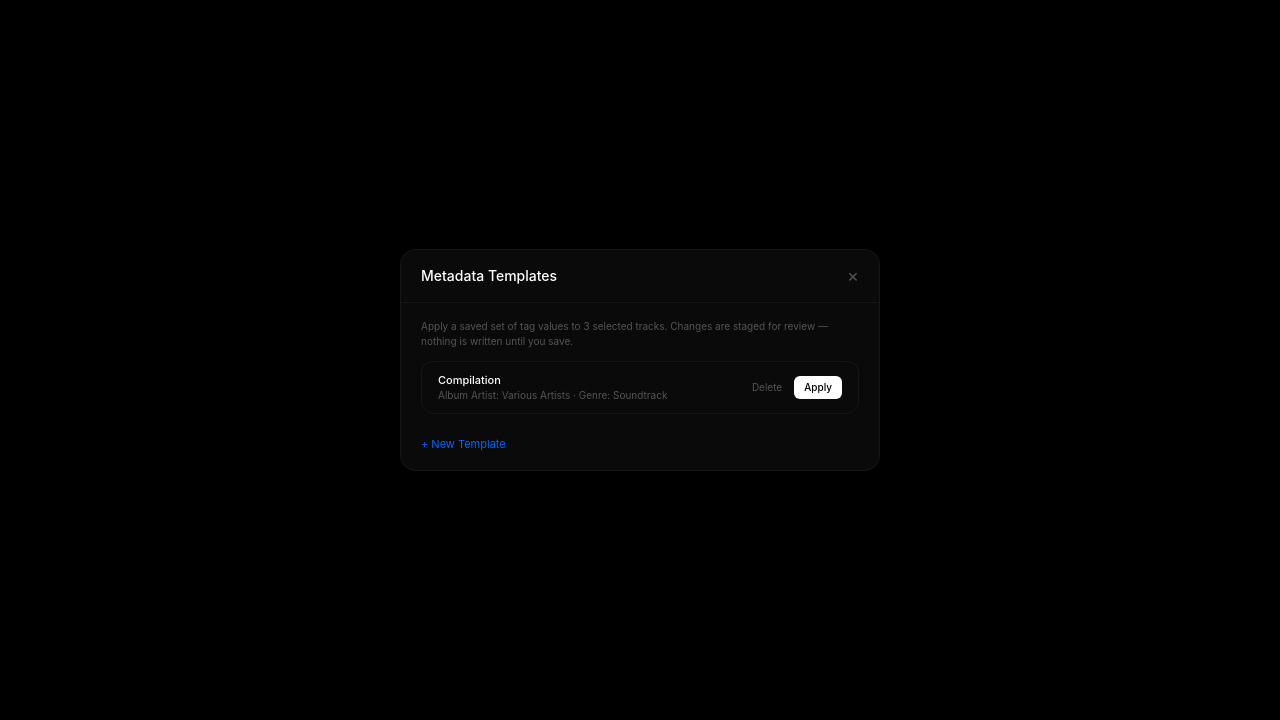
Scenario: TemplatesModal › deletes a template after confirmation
Click the button with test id "delete-template-t1" at (767, 388), box [752,380,782,395]
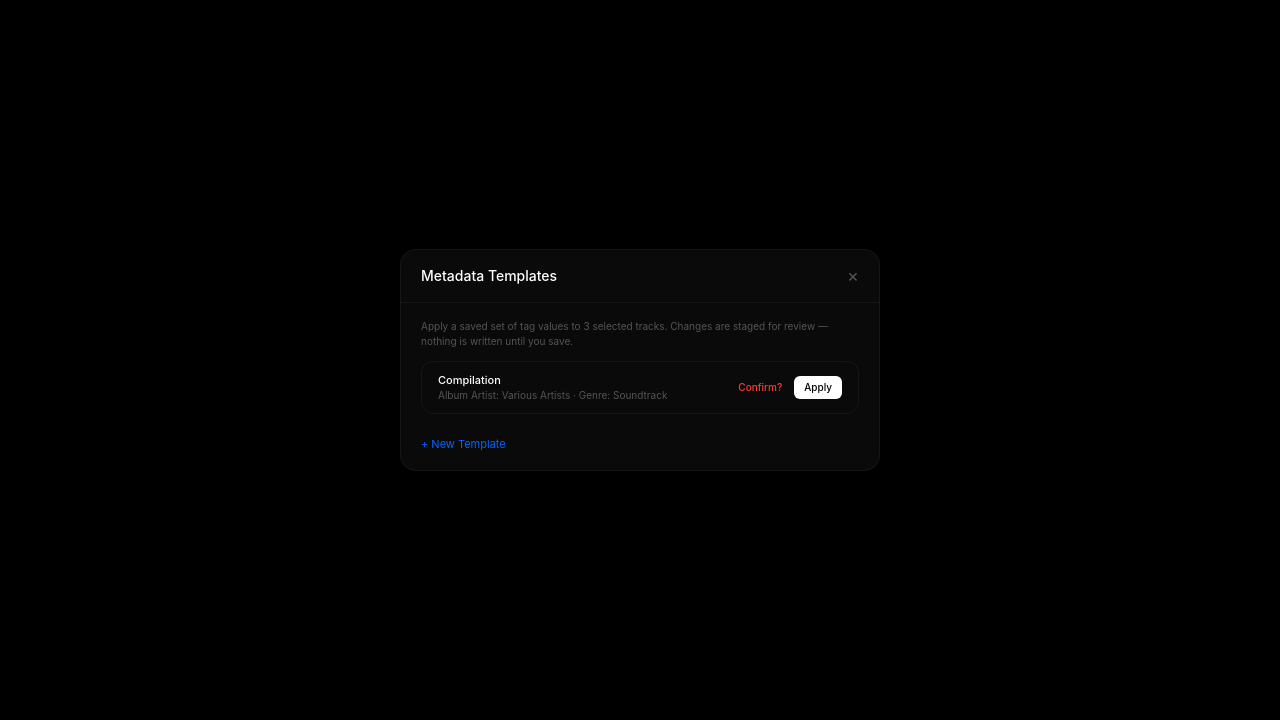
Click the button with test id "confirm-delete-template-t1" at (760, 388), box [738,380,782,395]
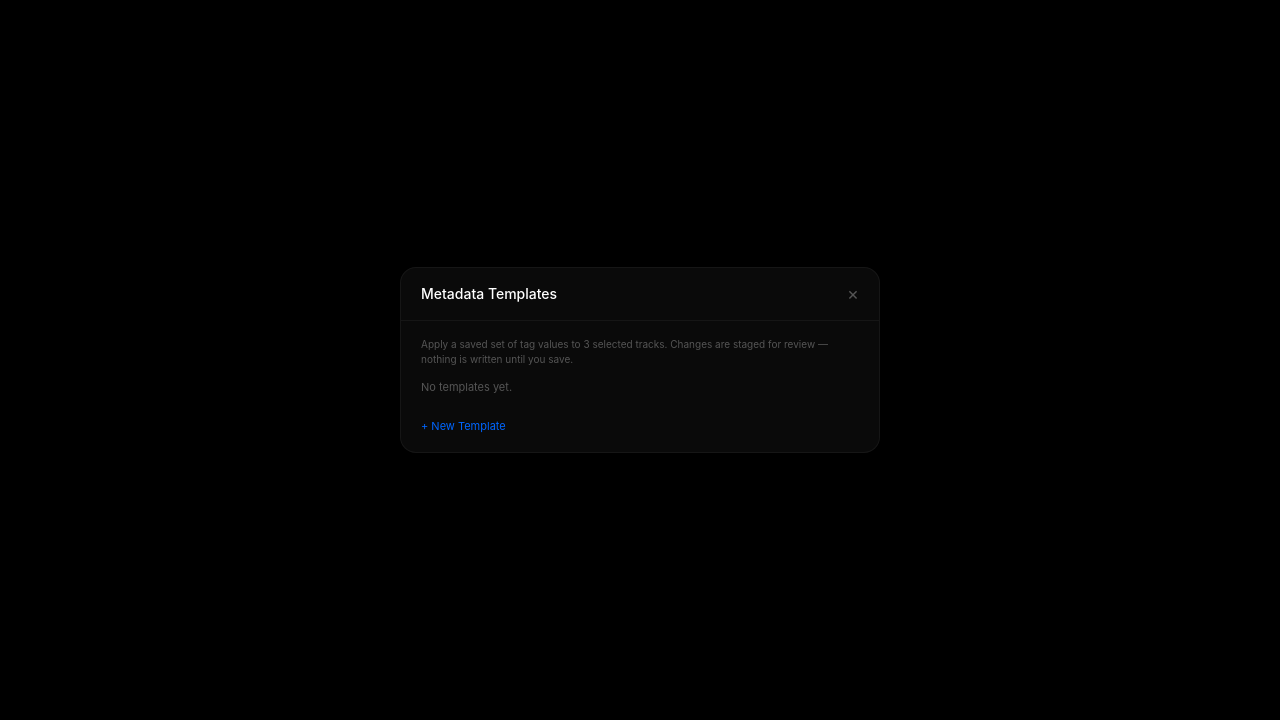
Result: the text "Compilation" is gone
